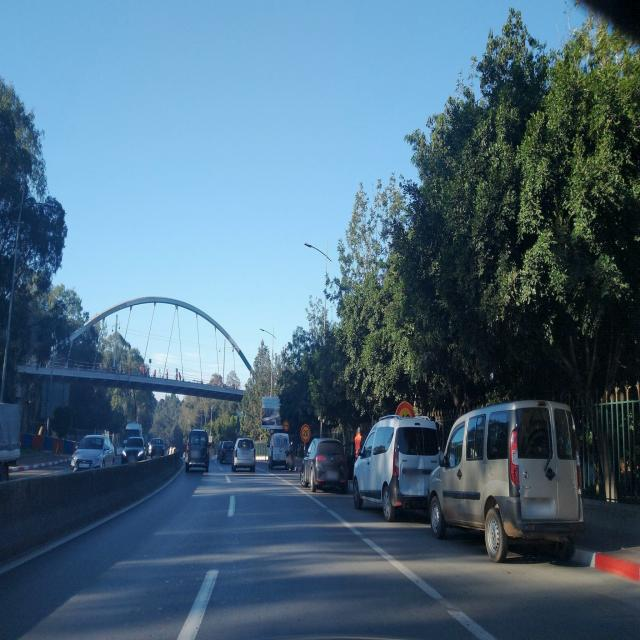car: (428, 399, 584, 564), (352, 412, 441, 522), (300, 436, 348, 493), (70, 433, 116, 474), (185, 427, 210, 473), (266, 432, 291, 470), (231, 436, 256, 474), (120, 437, 146, 464), (148, 436, 166, 459), (218, 439, 234, 464), (168, 444, 178, 456)
